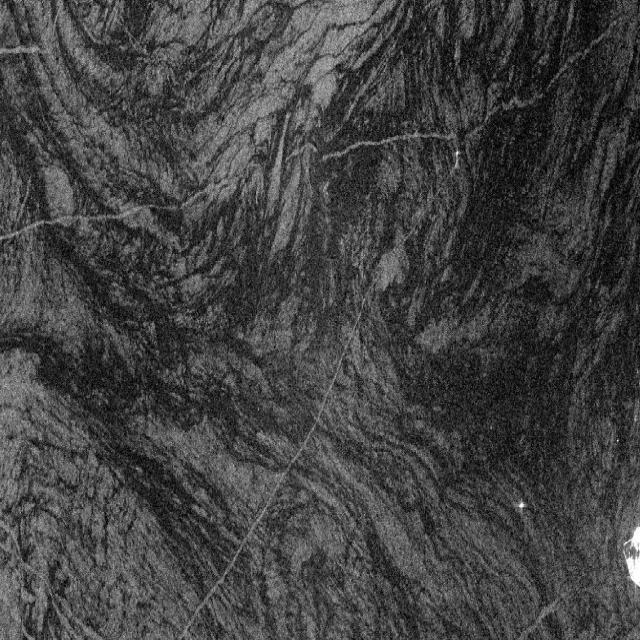look-alike: (309, 8, 634, 499), (15, 53, 284, 584)
